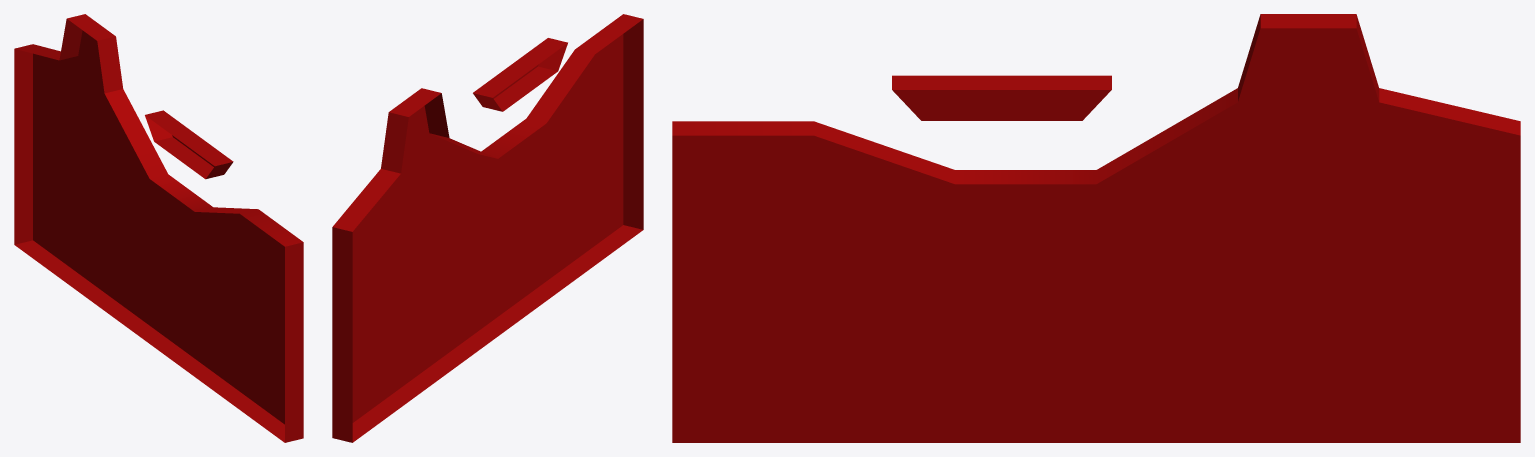
Rendered from slope_left.fbx.
The picture shows the model from 3 angles, left to right: view 1: azimuth 30°, elevation 25°; view 2: azimuth 150°, elevation 25°; view 3: azimuth 270°, elevation 25°; orthographic projection. The views are drawn at different scales.
Visible parts, largest first — view 1: slope_left, pCube4; view 2: slope_left, pCube4; view 3: slope_left, pCube4.
Part boxes in pixels (bbox=[...]): slope_left: bbox=[14, 14, 303, 442]; pCube4: bbox=[145, 110, 233, 179]; slope_left: bbox=[332, 14, 643, 442]; pCube4: bbox=[473, 38, 567, 111]; slope_left: bbox=[672, 14, 1520, 442]; pCube4: bbox=[892, 75, 1111, 120].
Bounding box in the file's own units: 1 × 13.49 × 25.
